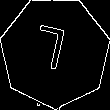L_S: (34, 24, 76, 80)
